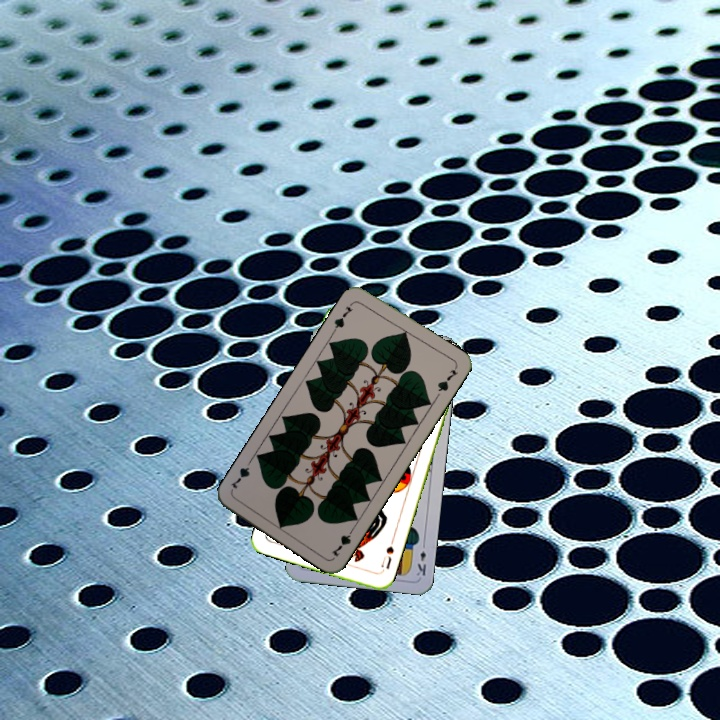EK: (413, 538, 429, 578)
G7: (327, 523, 357, 559), (329, 298, 356, 335)
SU: (376, 536, 397, 575)
